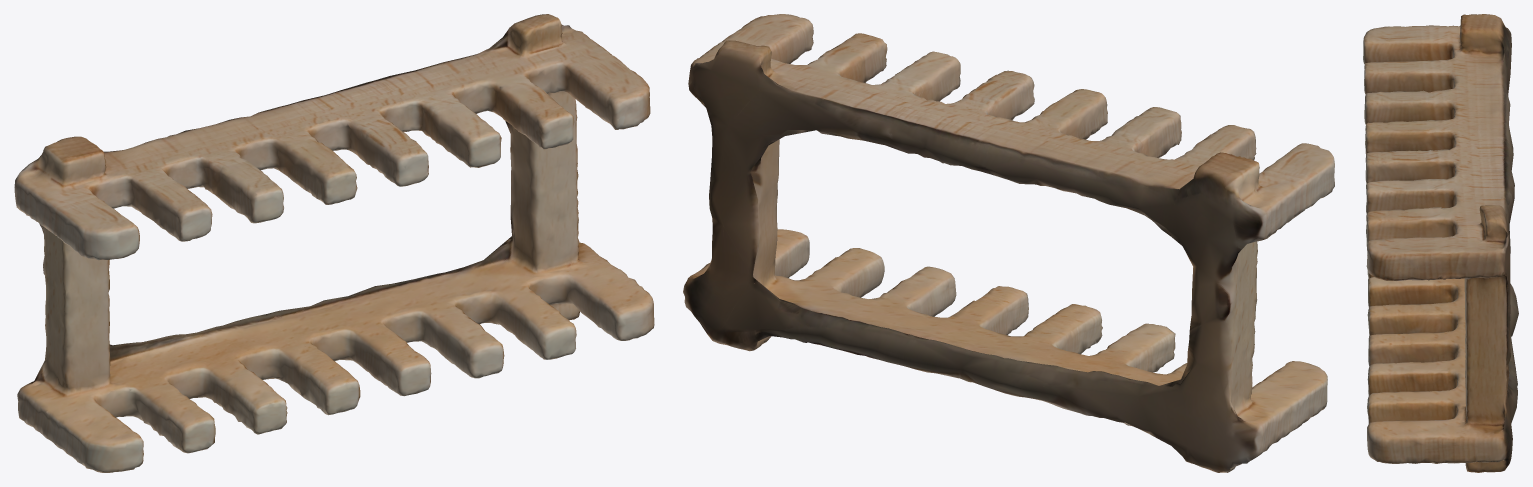
The model's file is wooden_rack.obj.
3 renders of one model, left to right at view 1: azimuth 30°, elevation 25°; view 2: azimuth 150°, elevation 25°; view 3: azimuth 270°, elevation 25°, orthographic. The views are drawn at different scales.
Visible parts, largest first — view 1: obj1; view 2: obj1; view 3: obj1.
Part boxes in pixels (x1,y1,x2,y2): obj1: (14,14,654,472); obj1: (683,14,1334,472); obj1: (1363,14,1518,472).
Size of the model in its own units: 0.2 by 0.1003 by 0.0551.
1 material, 1 textured.
